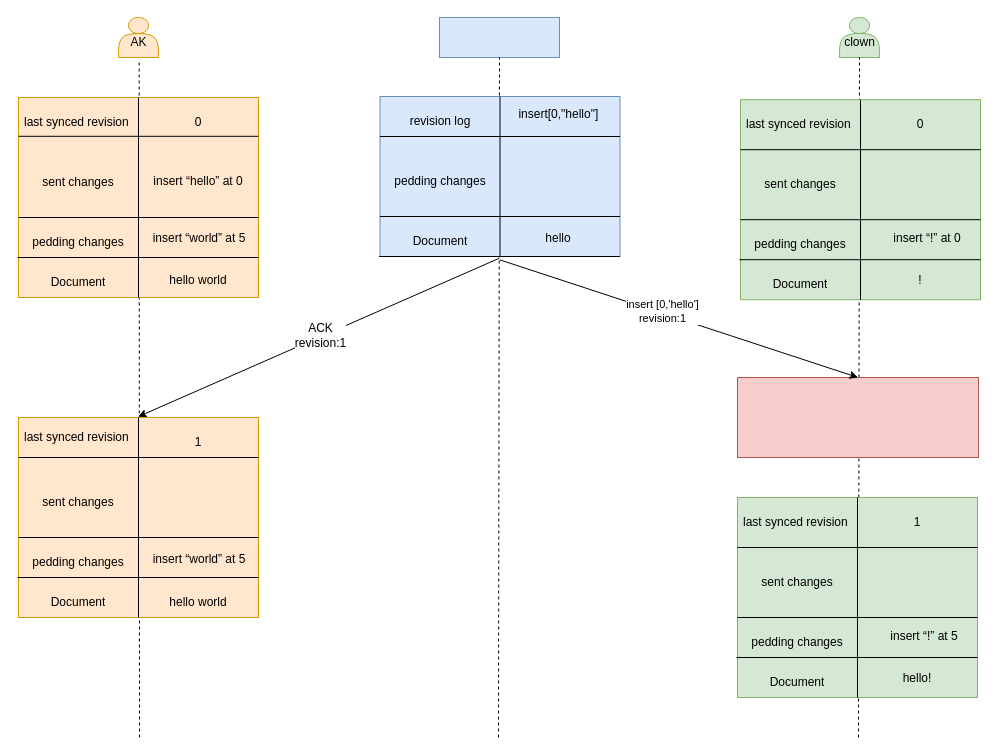
The diagram is 1005 pixels wide and 756 high, and some of its shapes have lost their labels. The shapes that lost their labels are listed below. From the top down, each one's centre as x and y in pixels, then its label:
At point 499,37: "serve服务端".
At point 857,417: "1. 将待更新的变更转换为即将发生的变更并且获取insert ['!', 5] 2.应用 insert [‘hello’, 0]".
